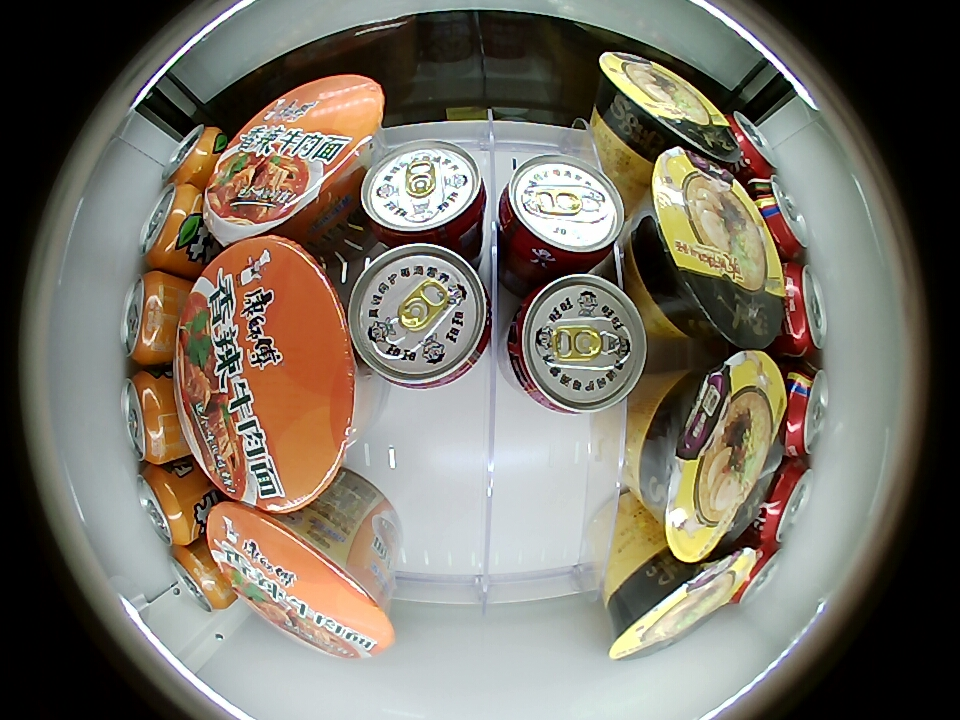fenda: (120, 271, 178, 366), (138, 184, 201, 269), (121, 371, 176, 464), (136, 465, 195, 546), (168, 544, 230, 613), (162, 124, 223, 186)
kele: (756, 458, 814, 545), (776, 263, 828, 356), (779, 361, 829, 456), (754, 175, 809, 260), (725, 111, 779, 179), (731, 541, 784, 607)
tangdaren2: (638, 349, 787, 562), (634, 146, 783, 349), (607, 545, 753, 663), (595, 51, 737, 164)
wangzainiunai: (347, 244, 491, 390), (506, 274, 648, 415), (498, 155, 625, 275), (361, 140, 488, 253)
xianglaniurou: (176, 235, 356, 513), (204, 75, 385, 246), (206, 502, 397, 659)
